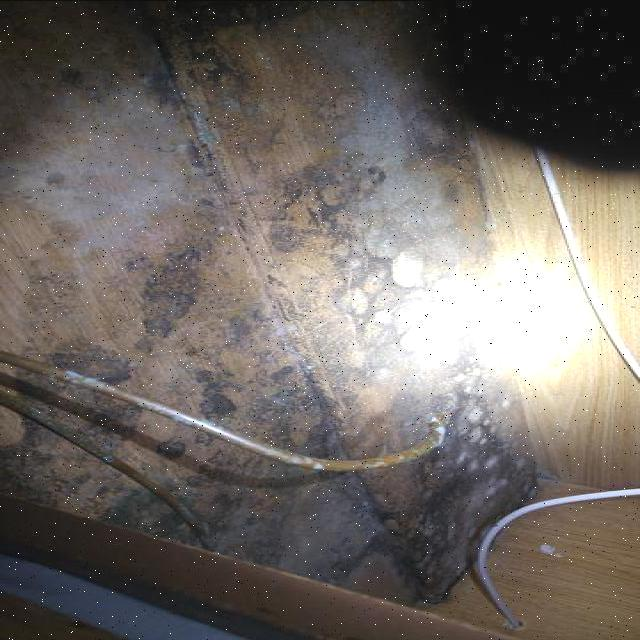corrosion: (111, 125, 402, 428), (27, 327, 363, 559), (270, 156, 386, 253), (131, 242, 218, 333), (190, 366, 253, 422), (47, 347, 133, 388)
crack: (135, 5, 241, 212)
dampens: (112, 40, 580, 638)
dampness: (6, 0, 640, 156)
